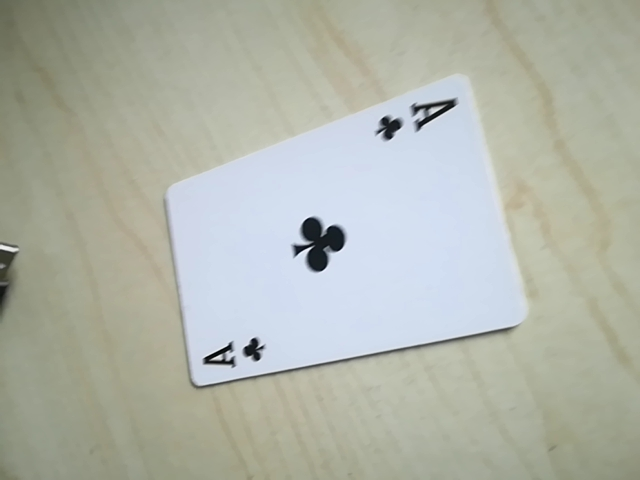mh a: (367, 92, 464, 147), (195, 326, 275, 379)
